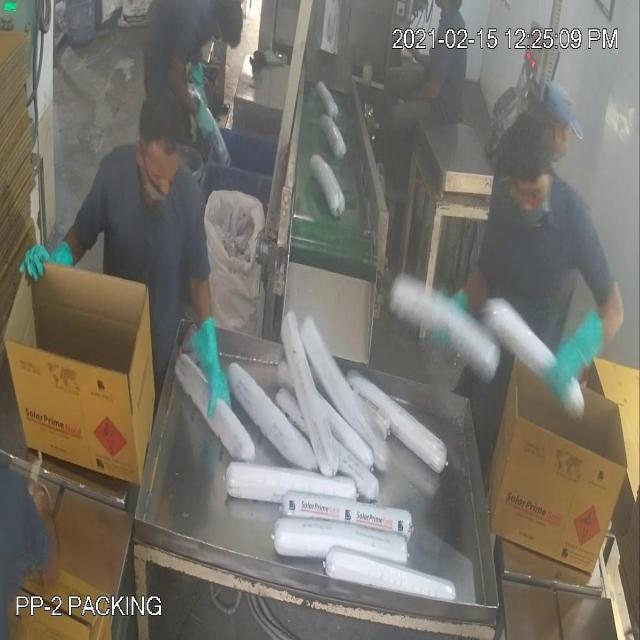Gloves: (48, 74, 572, 364)
